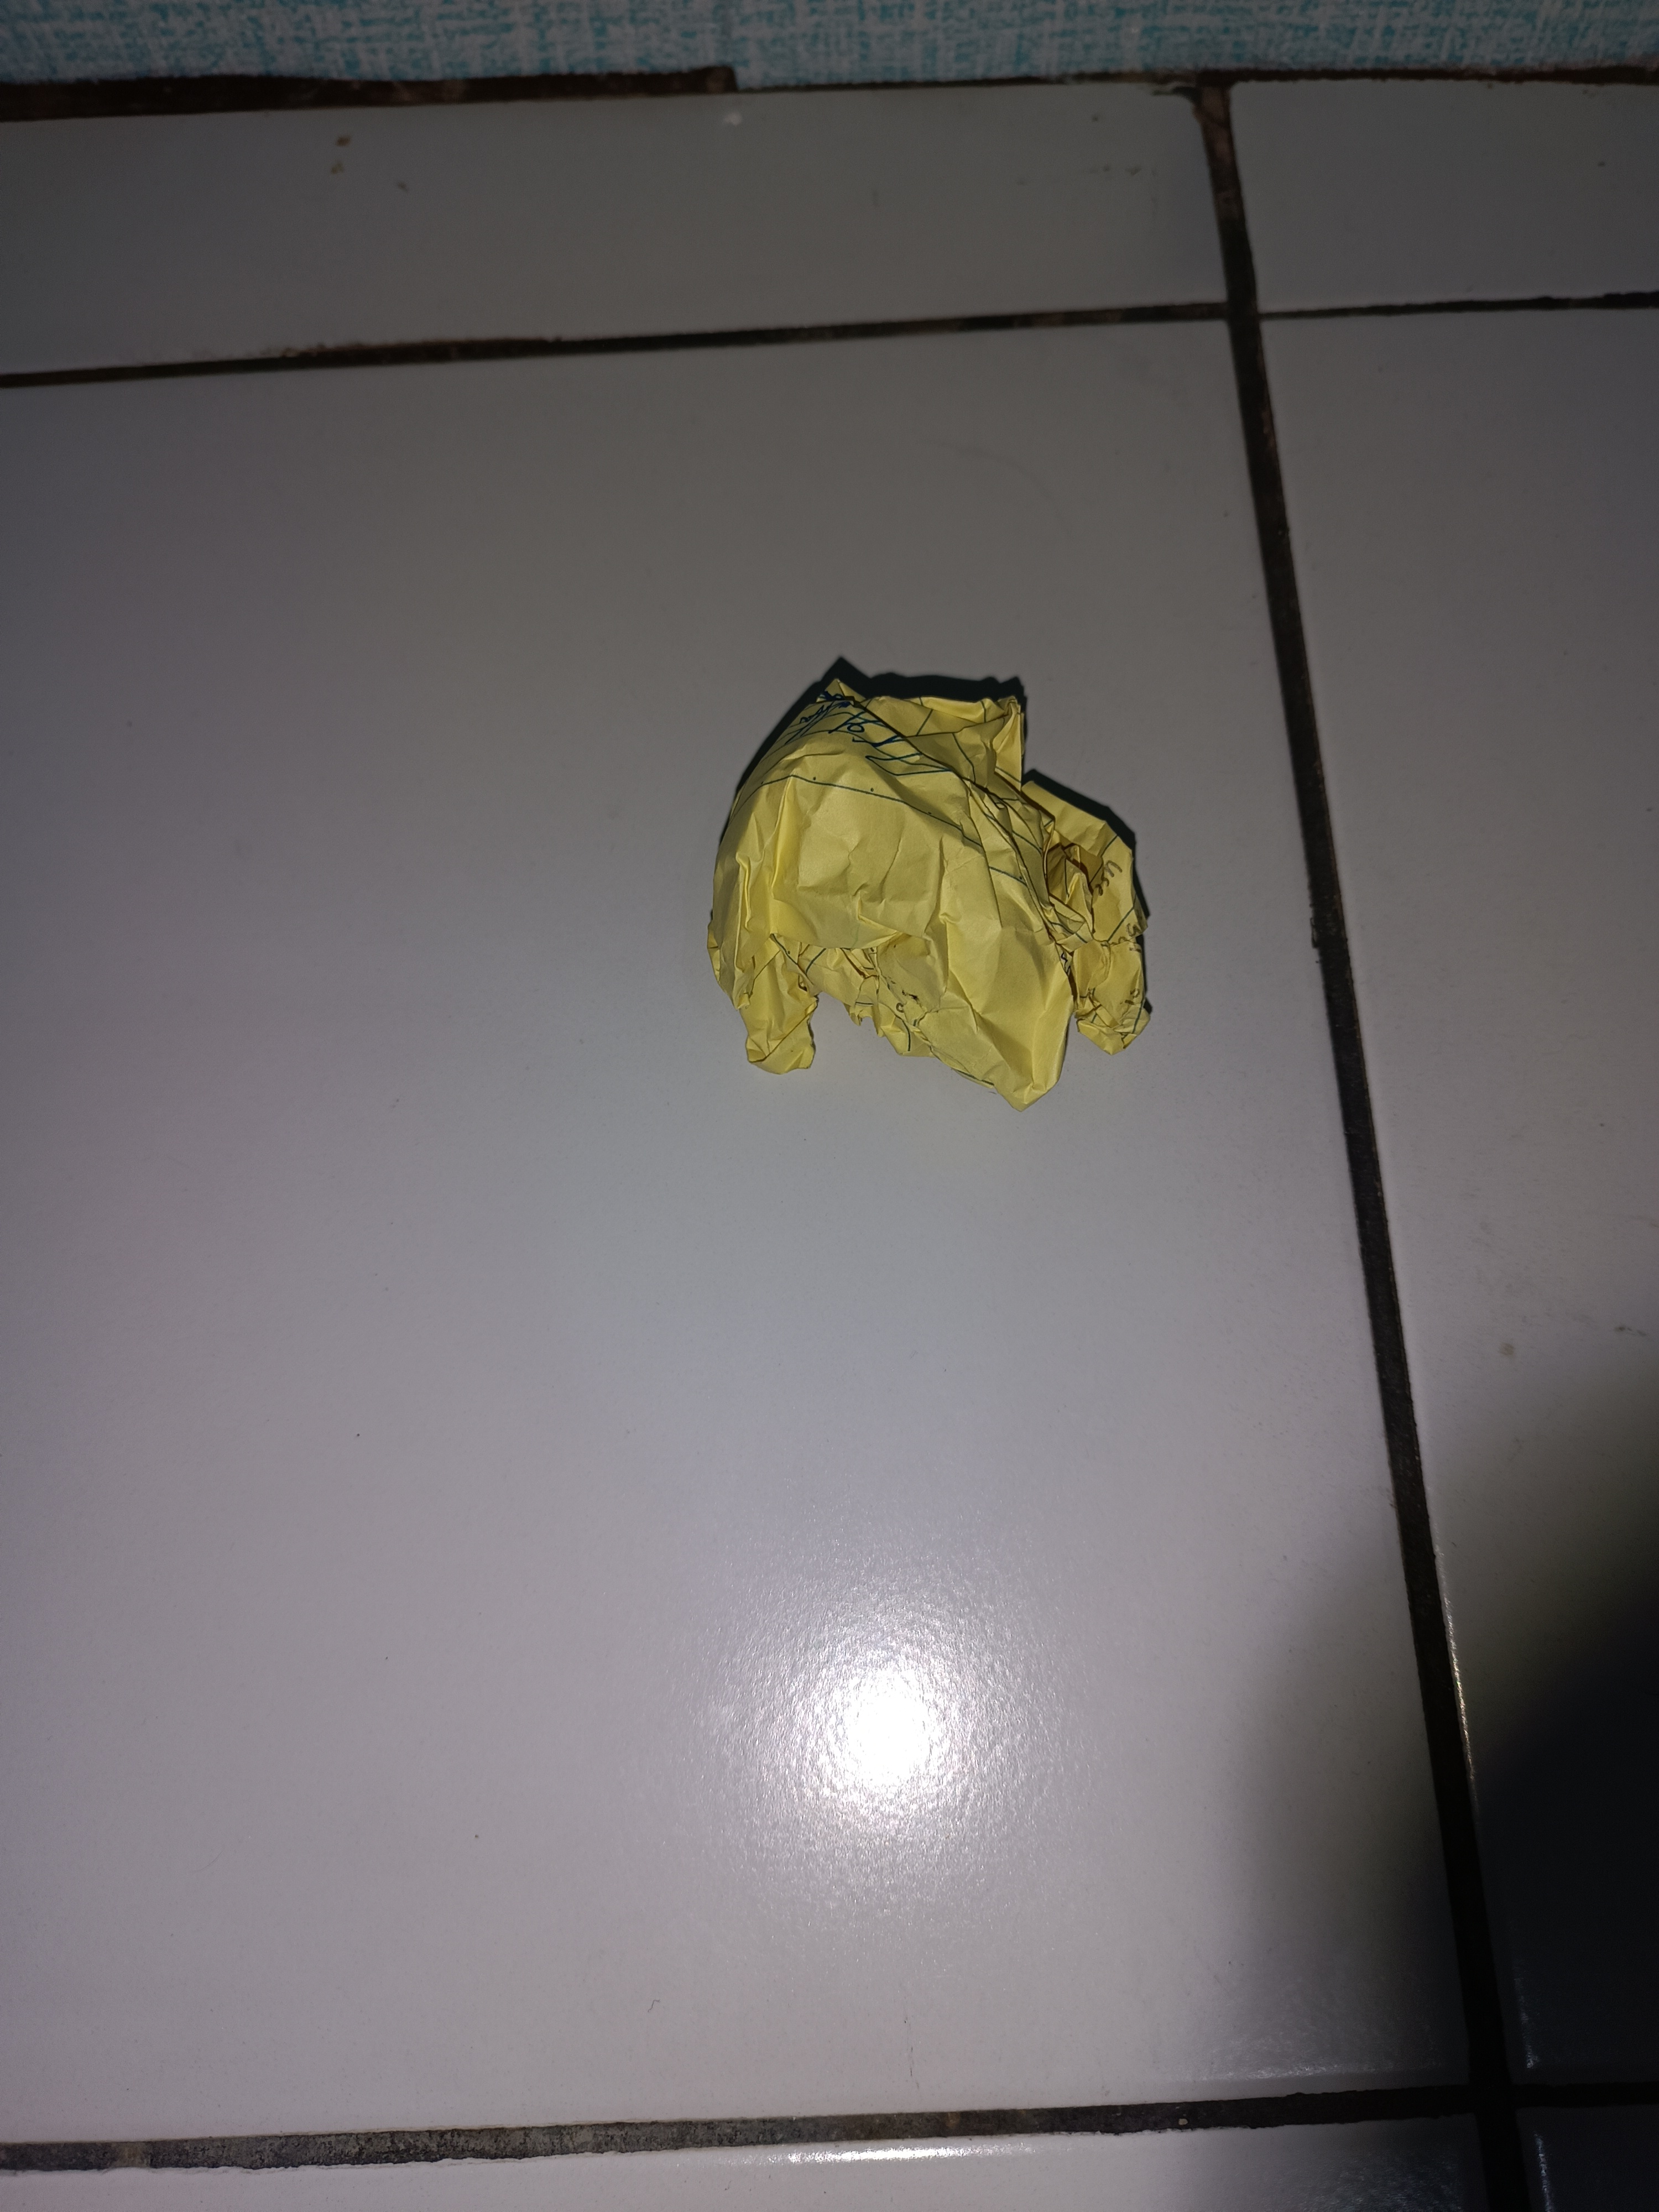Paper: (741, 516, 1157, 1202)
